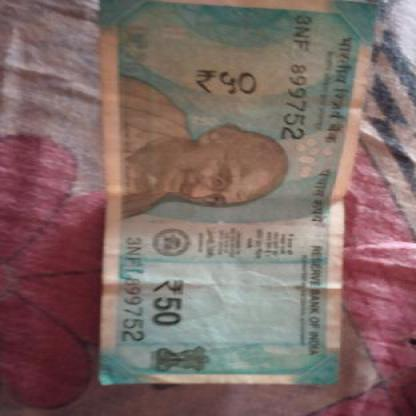New50Front: (95, 0, 345, 385)
